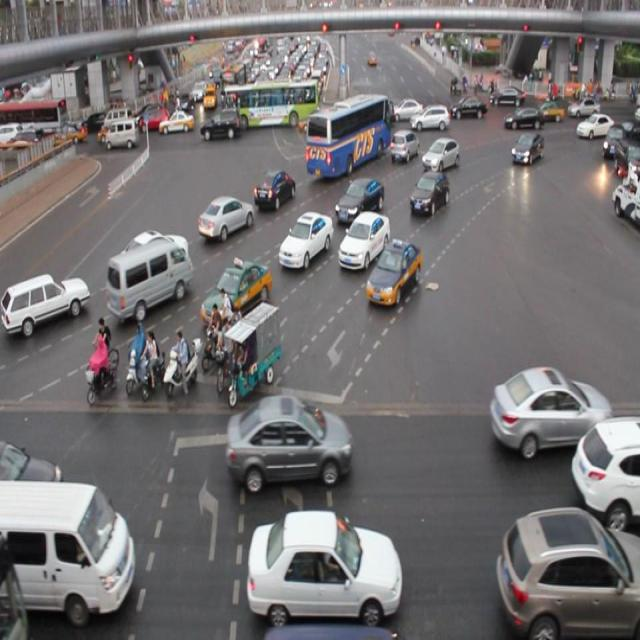car: (496, 505, 640, 640), (244, 510, 402, 621), (227, 394, 352, 489), (491, 362, 610, 450), (572, 418, 640, 529), (0, 273, 90, 333), (199, 258, 270, 324), (366, 238, 421, 310), (0, 434, 64, 493), (277, 208, 332, 272), (116, 228, 192, 269), (338, 211, 389, 269), (198, 192, 253, 244), (332, 178, 384, 220), (408, 169, 448, 215), (254, 172, 295, 210), (421, 137, 460, 172), (510, 131, 542, 165), (388, 131, 417, 161)
truck: (1, 476, 136, 623), (108, 242, 195, 320)
van: (305, 95, 390, 175)
